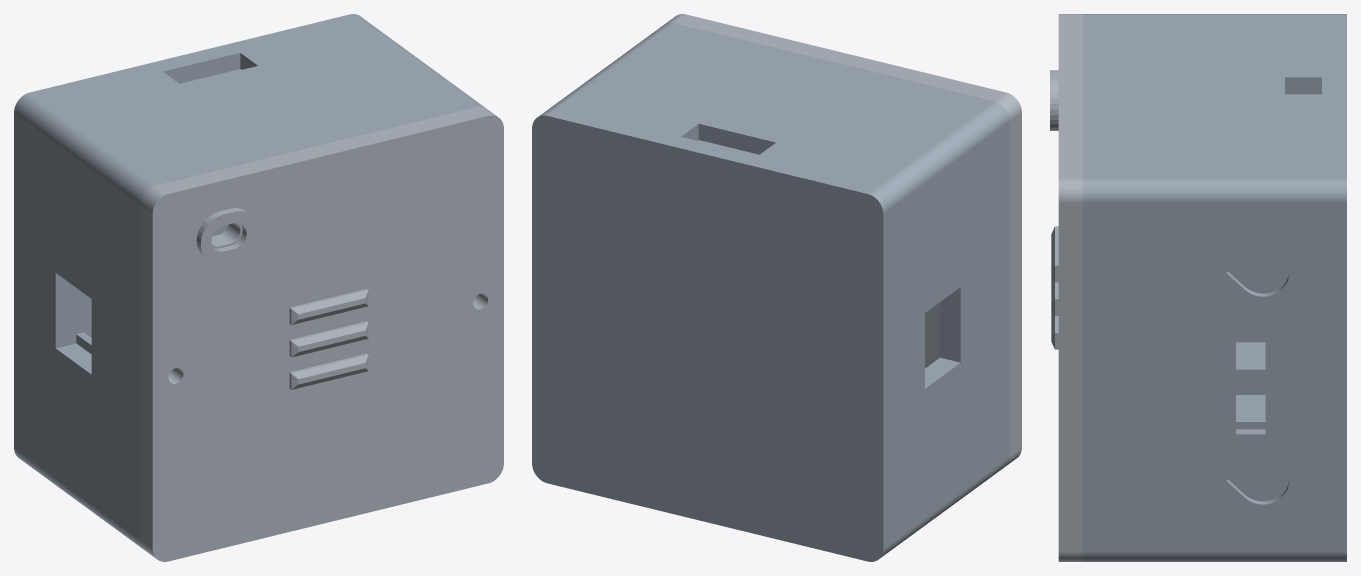
Rendered from pod.glb.
The picture shows the model from 3 angles, left to right: view 1: azimuth 30°, elevation 25°; view 2: azimuth 150°, elevation 25°; view 3: azimuth 270°, elevation 25°; orthographic projection. The views are drawn at different scales.
Visible parts, largest first — view 1: pod_lid, pod_shell; view 2: pod_shell, pod_lid; view 3: pod_shell, pod_lid.
Part boxes in pixels (bbox=[...]): pod_lid: bbox=[140, 106, 503, 561]; pod_shell: bbox=[14, 14, 485, 549]; pod_shell: bbox=[532, 22, 1009, 561]; pod_lid: bbox=[665, 14, 1021, 465]; pod_shell: bbox=[1083, 14, 1346, 561]; pod_lid: bbox=[1050, 14, 1083, 561].
Bounding box in the file's own units: 68 × 68 × 47.89.
